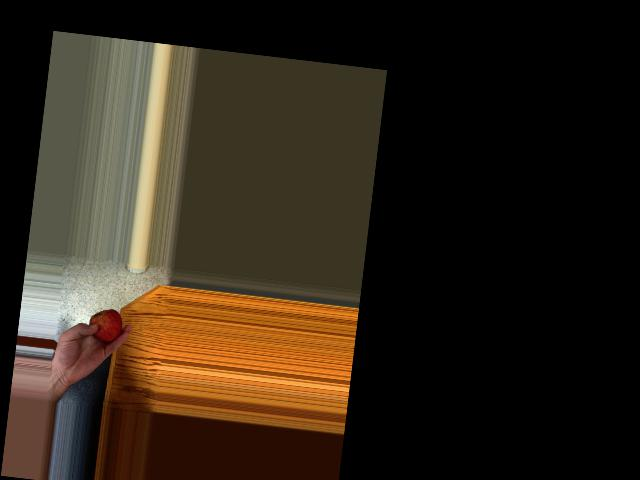apple: (84, 304, 125, 350)
